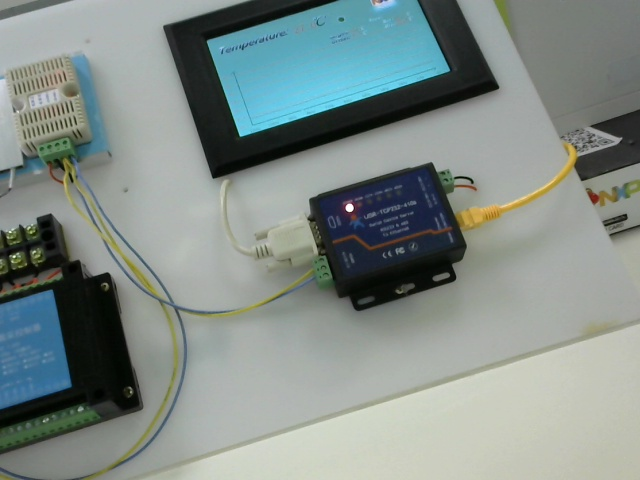modbus bridge: (305, 161, 477, 312), (8, 54, 93, 158)
